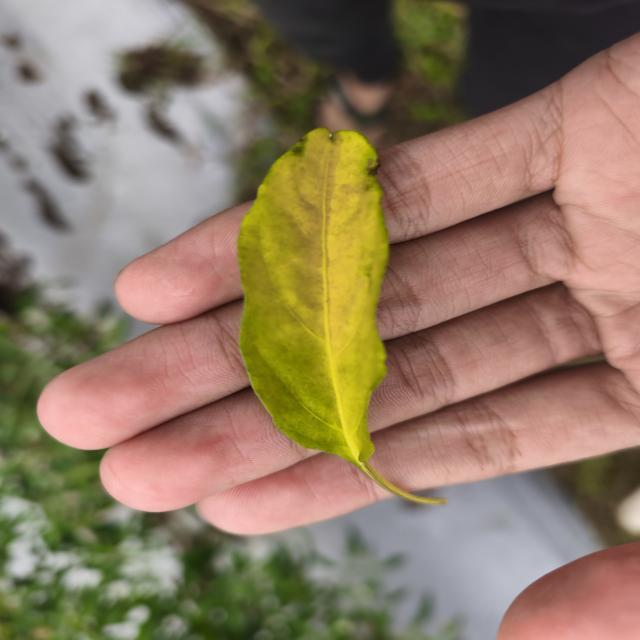Virus Kuning: (236, 126, 395, 469)
